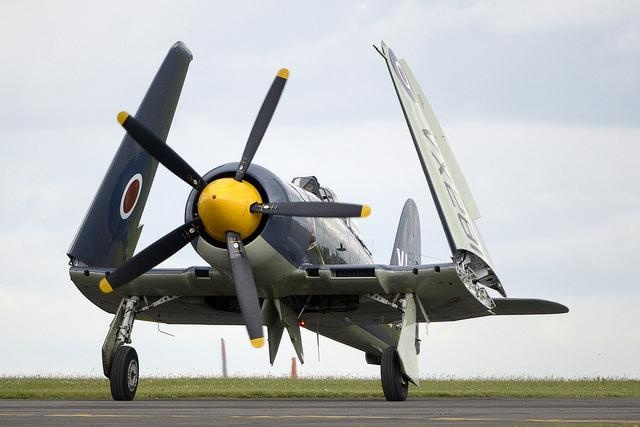airplane: (59, 35, 571, 401)
